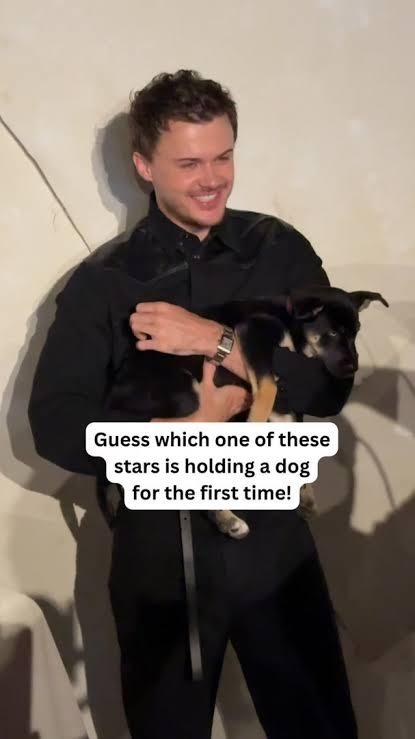non-dog: (29, 70, 362, 739)
puppy-dog: (109, 285, 389, 541)
